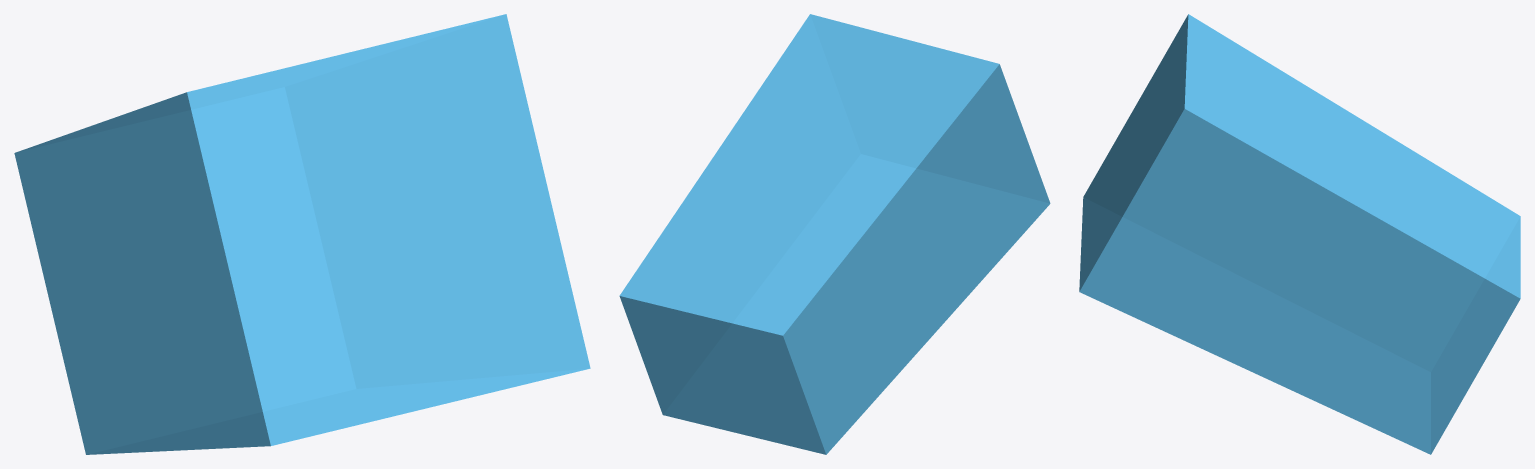
The model's file is Event_420107950_HBrechit_1.fbx.
3 renders of one model, left to right at view 1: azimuth 30°, elevation 25°; view 2: azimuth 150°, elevation 25°; view 3: azimuth 270°, elevation 25°, orthographic. The views are drawn at different scales.
Parts seen in each view (by area): view 1: Model; view 2: Model; view 3: Model.
Part boxes in pixels (x1,y1,x2,y2): Model: (14, 14, 590, 454); Model: (619, 14, 1050, 454); Model: (1079, 14, 1520, 454).
Bounding box in the file's own units: 0.5429 × 0.7575 × 0.9126.
